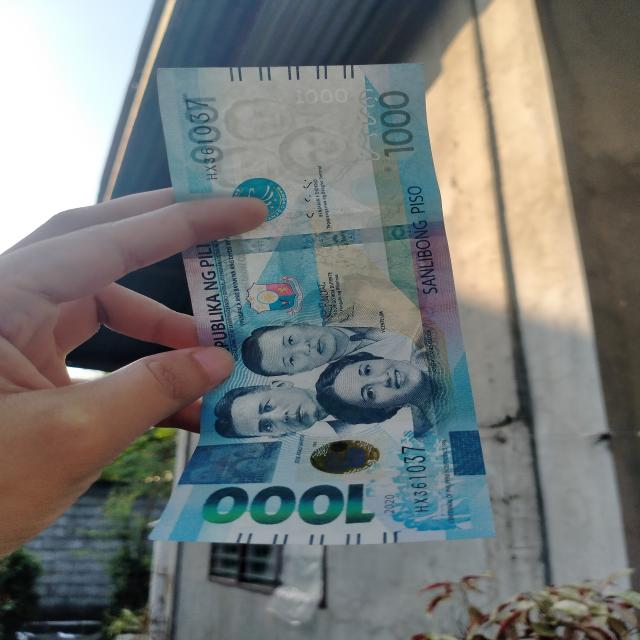concealed_value: (177, 441, 283, 484)
optically_variable_device: (298, 436, 386, 481)
security_thread: (180, 221, 446, 258)
see_through_mark: (354, 86, 384, 162)
serial_number: (184, 93, 227, 194), (398, 442, 433, 516)
value: (200, 482, 376, 527)
value_watermark: (290, 88, 354, 104)
watermark: (205, 95, 358, 191)
